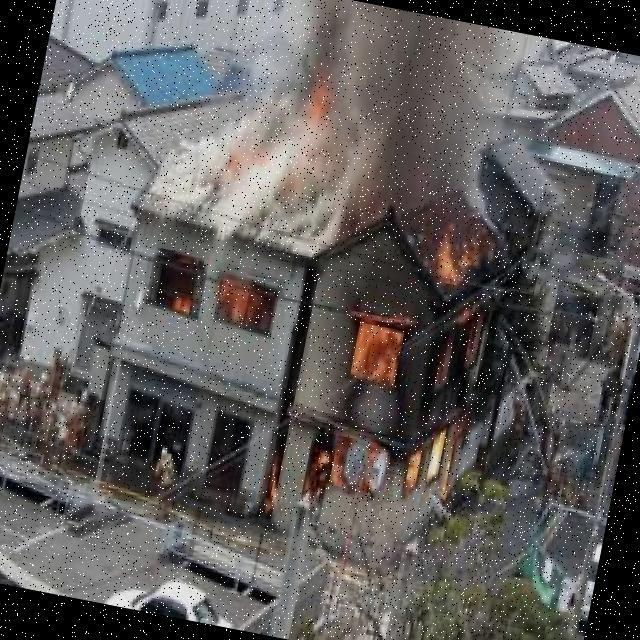Fire: (305, 175, 534, 525), (204, 70, 335, 199), (140, 251, 290, 343)
